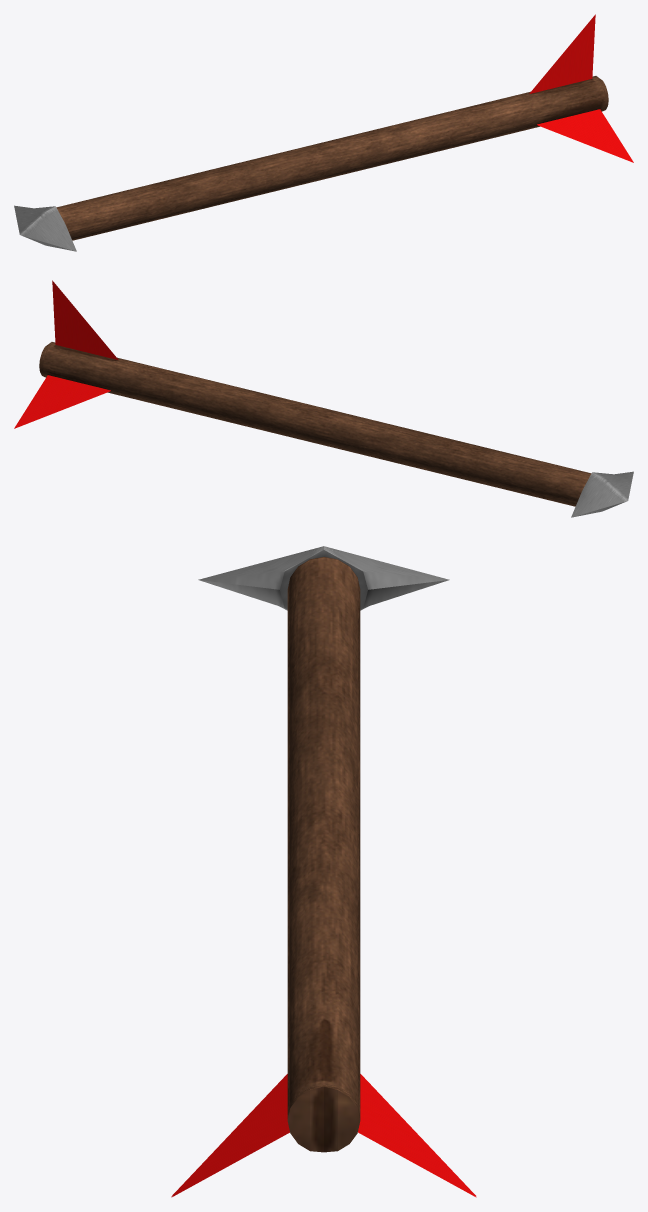
File: FLECHA.fbx
The picture shows the model from 3 angles, top to bottom: view 1: azimuth 30°, elevation 25°; view 2: azimuth 150°, elevation 25°; view 3: azimuth 270°, elevation 25°; orthographic projection. The views are drawn at different scales.
Parts seen in each view (by area): view 1: Arrow 32 inch; view 2: Arrow 32 inch; view 3: Arrow 32 inch.
Boxes of the visible parts, x1,y1,x2,y2 form: Arrow 32 inch: [14, 14, 633, 251]; Arrow 32 inch: [14, 280, 633, 517]; Arrow 32 inch: [171, 546, 476, 1197].
Bounding box in the file's own units: 86.64 × 17.25 × 19.85.
